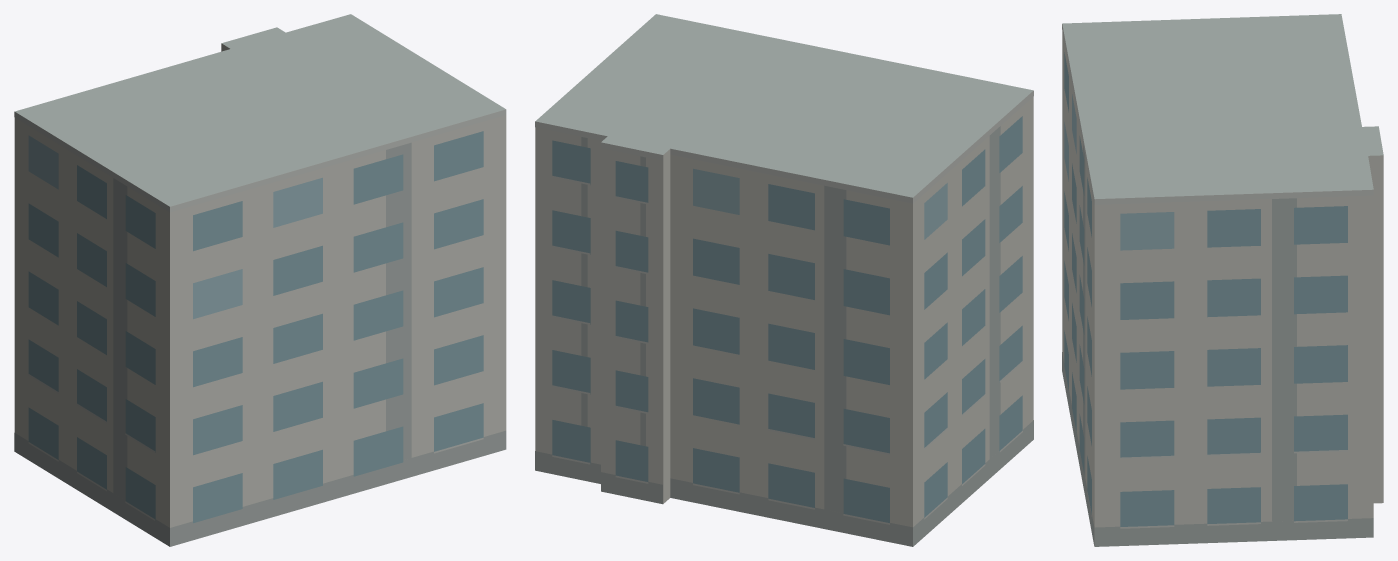
The model's file is survey-upis-32747106.glb.
3 renders of one model, left to right at view 1: azimuth 30°, elevation 25°; view 2: azimuth 150°, elevation 25°; view 3: azimuth 270°, elevation 25°, orthographic. The views are drawn at different scales.
Parts seen in each view (by area): view 1: survey-upis-32747106.tmp; view 2: survey-upis-32747106.tmp; view 3: survey-upis-32747106.tmp.
Part boxes in pixels (x1,y1,x2,y2): survey-upis-32747106.tmp: [14, 14, 506, 546]; survey-upis-32747106.tmp: [535, 14, 1033, 546]; survey-upis-32747106.tmp: [1062, 14, 1383, 546].
Size of the model in its own units: 16.45 by 14.4 by 12.08.
